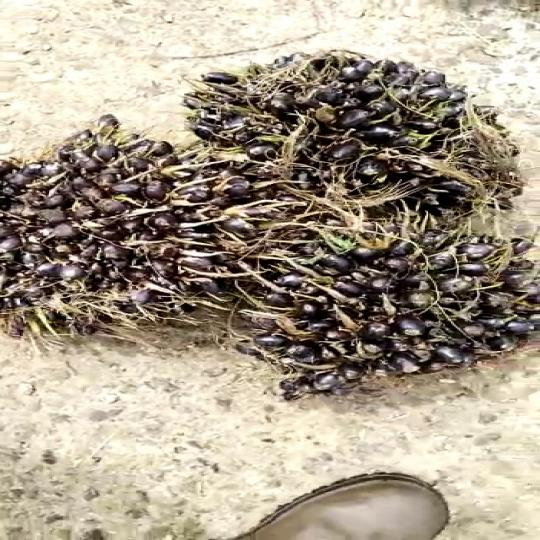mentah: (0, 117, 324, 324), (193, 37, 534, 219), (224, 219, 540, 389)
